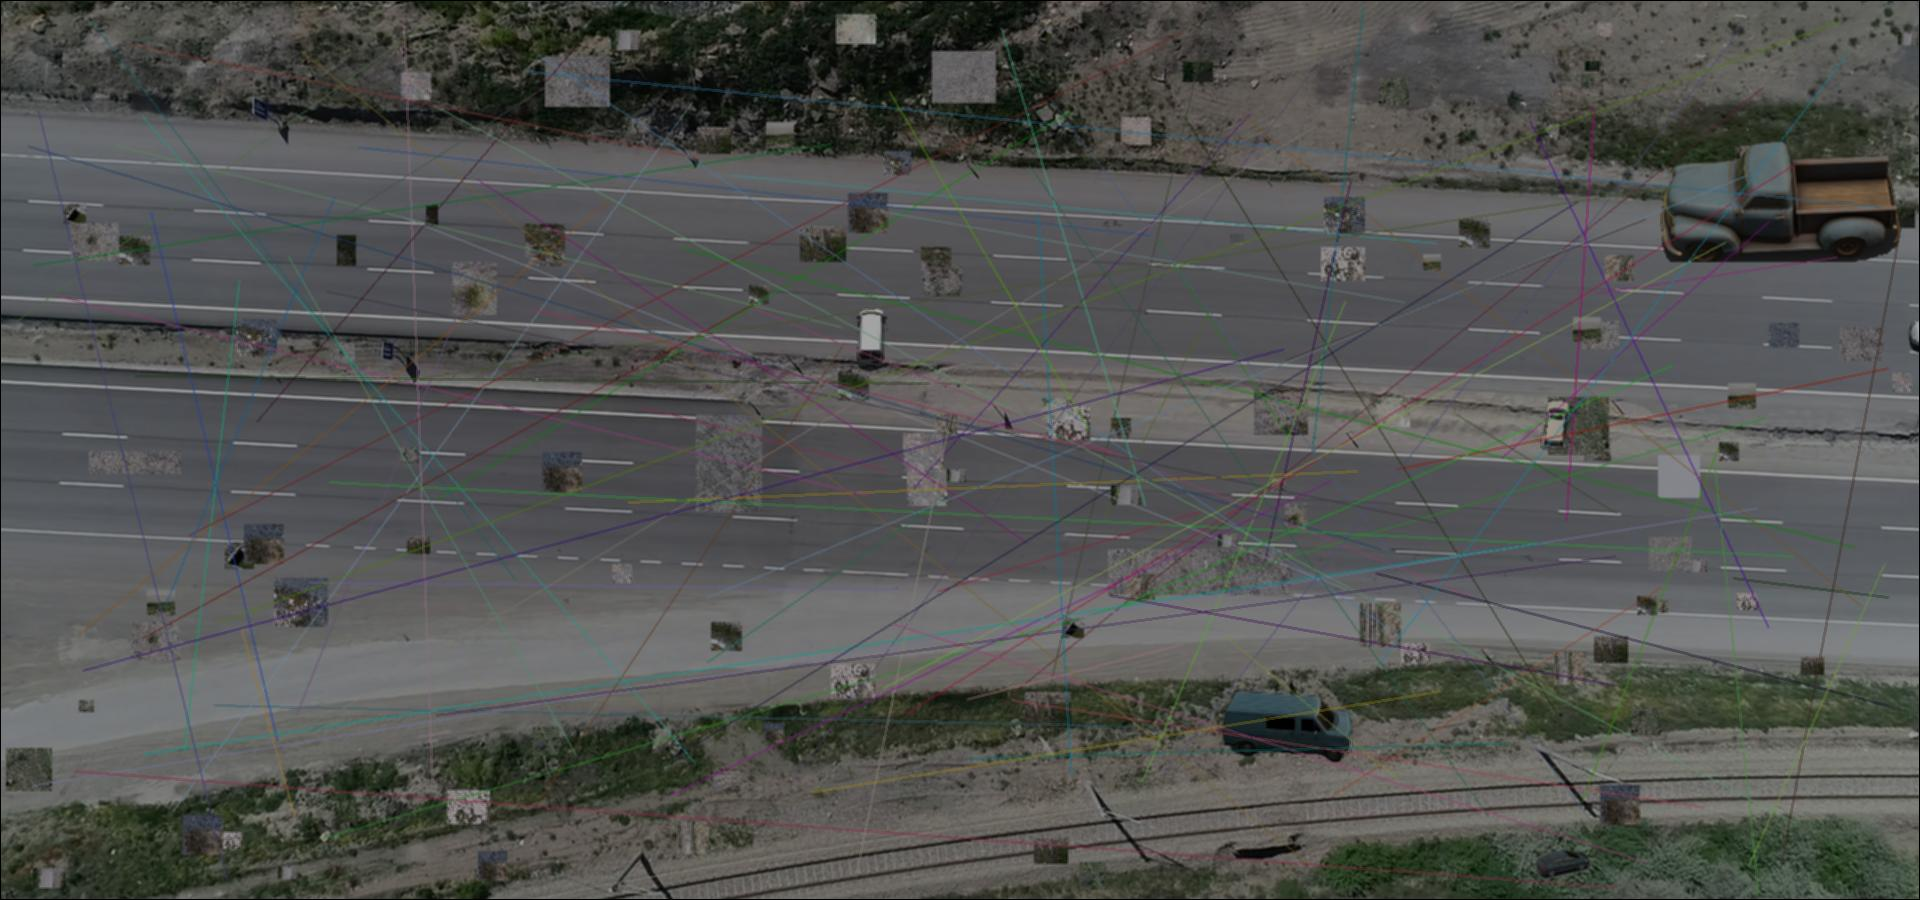arac: (1660, 142, 1900, 262), (1220, 689, 1354, 764), (855, 307, 888, 371), (1539, 399, 1572, 452), (1534, 850, 1591, 879)
